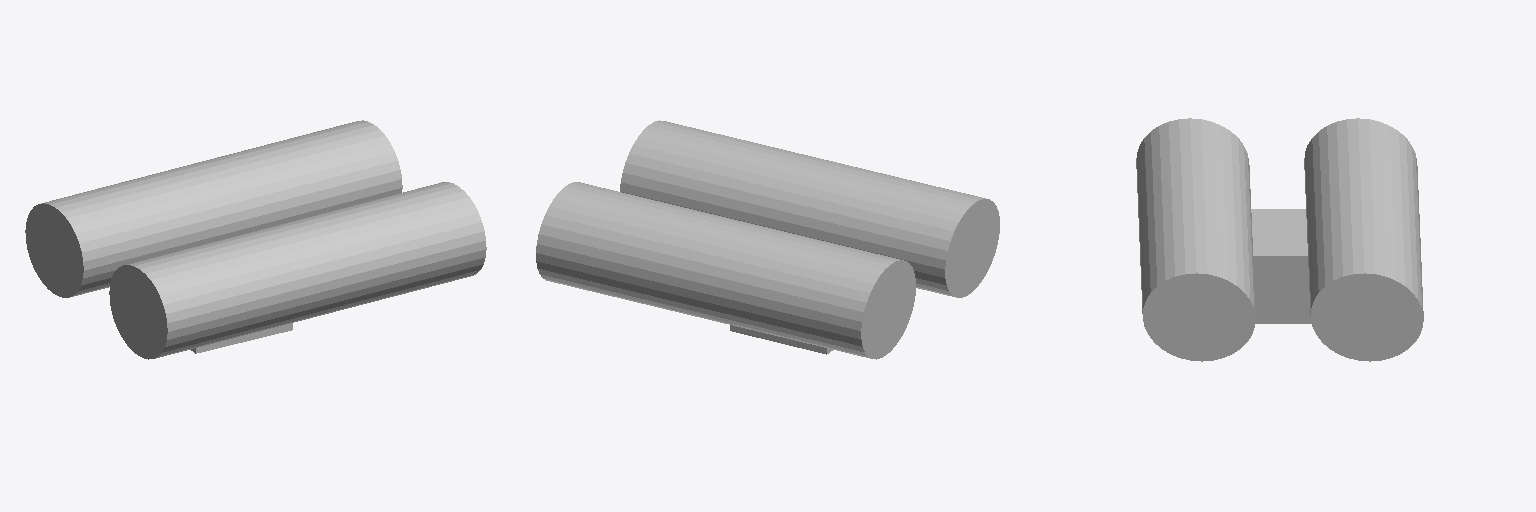
Rendered from Turret_top.obj.
3 renders of one model, left to right at view 1: azimuth 30°, elevation 25°; view 2: azimuth 150°, elevation 25°; view 3: azimuth 270°, elevation 25°, orthographic.
Parts seen in each view (by area): view 1: Cylinder; view 2: Cylinder; view 3: Cylinder.
Part boxes in pixels (x1,y1,x2,y2): Cylinder: (25, 120, 486, 359); Cylinder: (536, 120, 999, 359); Cylinder: (1136, 118, 1423, 361).
Size of the model in its own units: 2.01 by 0.7243 by 1.55.